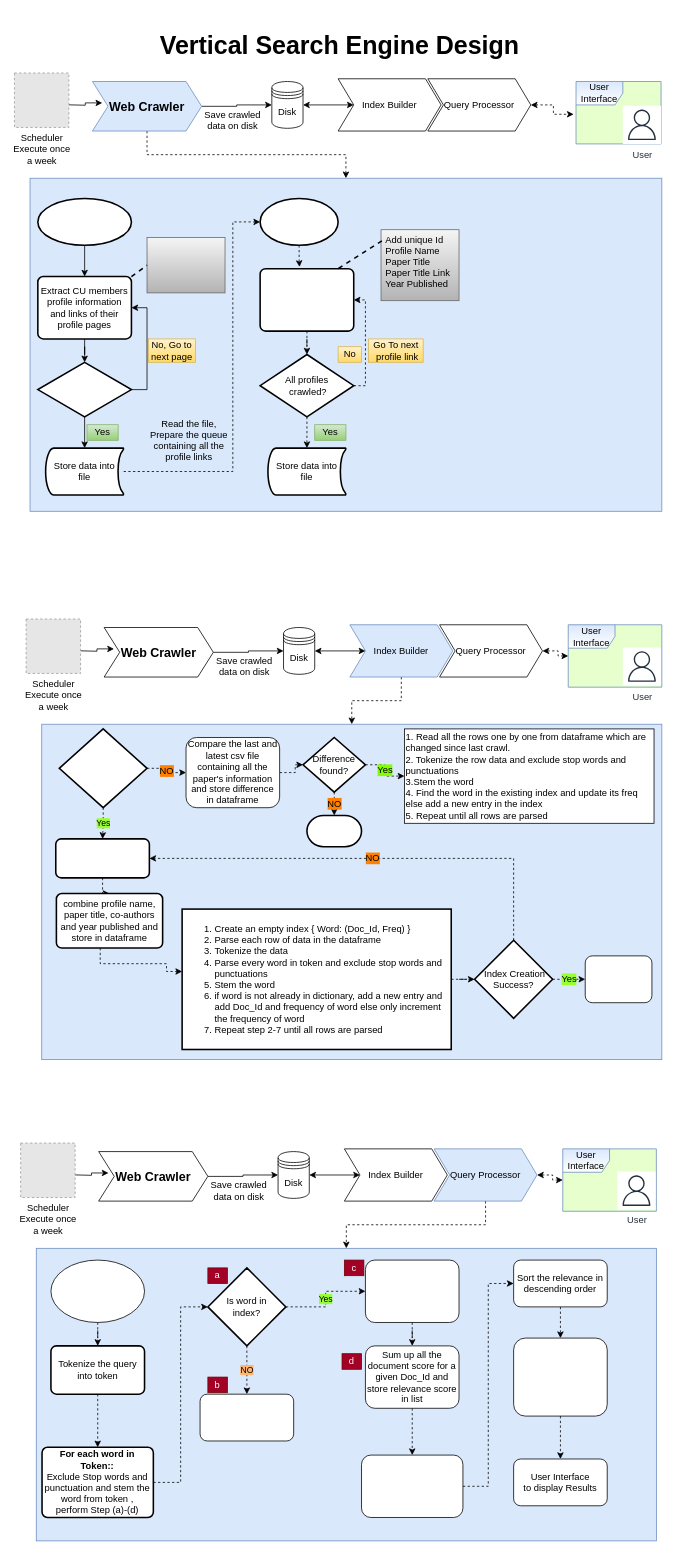
Image size: 676x1555. Some labels were removed from this diagram. Grey dashed boxes stand in for pictures. Each missing label, with the centre of its shape:
"Are all the profile extracted?" belongs at (84,389).
"Calculate the document score (TF *IDF) for each Doc_Id found for word" belongs at (412,1290).
"Extract the paper information and links , all co-authors" belongs at (306,300).
"First Profile Link" belongs at (299,221).
"First time Index creation?" belongs at (102,768).
"Input Query to process" belongs at (97,1290).
"Name Profile Link Designation" belongs at (185,265).
"No Action needed" belongs at (334,830).
"Pull all the information associated with Doc_Id" belongs at (560,1376).
"Read csv file containing all the papers information" belongs at (102,858).
"Return list of relevance score for all the documents and NOT_FOUND List" belongs at (412,1485).
"Seed URL for crawl" belongs at (84,221).
"Set First time index creation Flag to FALSE" belongs at (618,979).
"Store the word in NOT_FOUND List" belongs at (246,1417).
